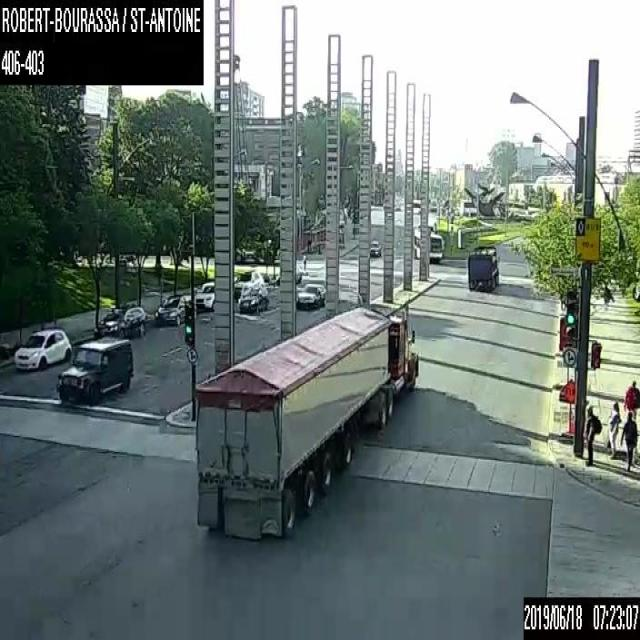bus: (413, 227, 444, 261)
construction: (558, 376, 574, 443)
pedestrian: (620, 410, 639, 470), (584, 402, 601, 466), (606, 398, 620, 458), (623, 379, 639, 420), (301, 253, 306, 272)
vehicle: (193, 300, 418, 540), (56, 335, 133, 403), (13, 327, 71, 370), (93, 304, 145, 339), (467, 243, 499, 291), (154, 290, 197, 321), (238, 284, 269, 314), (234, 268, 263, 300), (296, 282, 326, 308), (194, 279, 215, 309), (370, 239, 380, 256)
